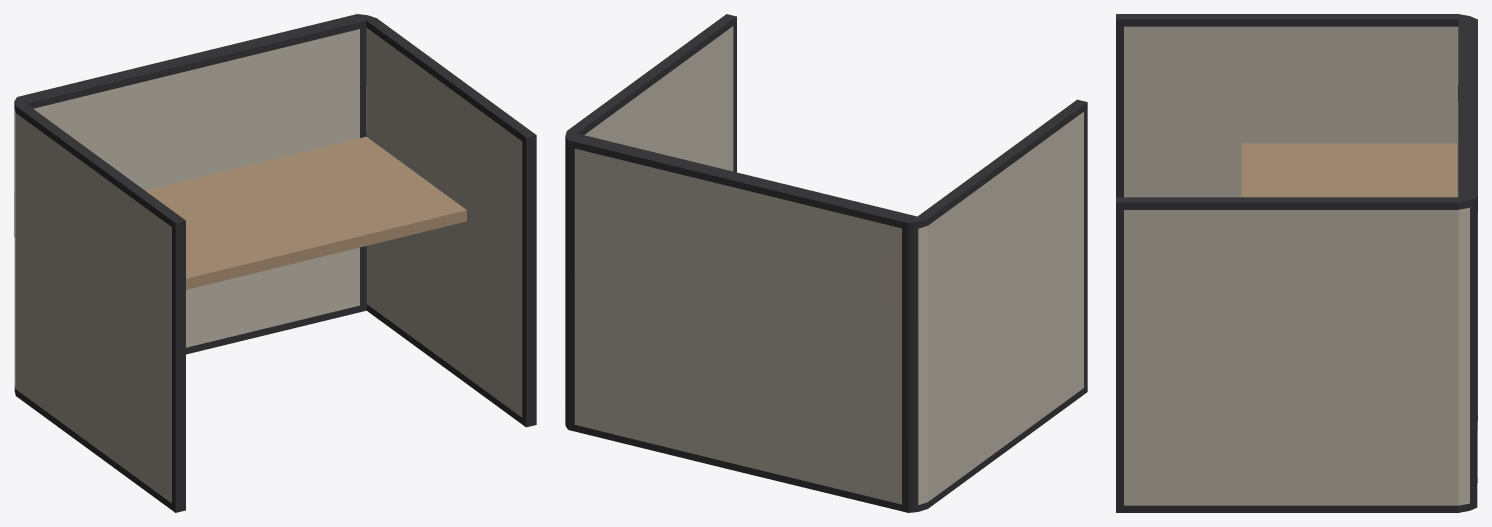
File: 08_divider_full_U_desk_smallfragments.glb
3 renders of one model, left to right at view 1: azimuth 30°, elevation 25°; view 2: azimuth 150°, elevation 25°; view 3: azimuth 270°, elevation 25°, orthographic. The views are drawn at different scales.
Parts seen in each view (by area): view 1: Panel_Back_fragment_2, Panel_Left_fragment_2, Panel_Back_fragment_3, Panel_Right_fragment_2, Panel_Right_fragment_3, Panel_Left_fragment_3, DeskTop_fragment_2, DeskTop_fragment_3, Panel_Left_fragment_1, Panel_Right_fragment_1, Panel_Back_fragment_1, DeskTop_fragment_1; view 2: Panel_Back_fragment_2, Panel_Back_fragment_3, Panel_Back_fragment_1, Panel_Left_fragment_2, Panel_Left_fragment_1, Panel_Left_fragment_3, Panel_Right_fragment_3, Panel_Right_fragment_2, Panel_Right_fragment_1; view 3: Panel_Right_fragment_2, Panel_Right_fragment_3, Panel_Right_fragment_1, Panel_Left_fragment_3, Panel_Left_fragment_2, DeskTop_fragment_1, Panel_Left_fragment_1, Panel_Back_fragment_2, Panel_Back_fragment_3, DeskTop_fragment_2, Panel_Back_fragment_1.
Part boxes in pixels (bbox=[...]): Panel_Back_fragment_2: bbox=[90, 43, 281, 354]; Panel_Left_fragment_2: bbox=[41, 122, 135, 483]; Panel_Back_fragment_3: bbox=[237, 14, 366, 330]; Panel_Right_fragment_2: bbox=[391, 36, 486, 397]; Panel_Right_fragment_3: bbox=[465, 90, 536, 427]; Panel_Left_fragment_3: bbox=[115, 176, 185, 512]; DeskTop_fragment_2: bbox=[145, 160, 353, 282]; DeskTop_fragment_3: bbox=[268, 136, 466, 248]; Panel_Left_fragment_1: bbox=[14, 97, 61, 429]; Panel_Right_fragment_1: bbox=[357, 14, 412, 343]; Panel_Back_fragment_1: bbox=[17, 79, 109, 163]; DeskTop_fragment_1: bbox=[186, 245, 215, 289]; Panel_Back_fragment_2: bbox=[652, 163, 843, 486]; Panel_Back_fragment_3: bbox=[568, 133, 696, 450]; Panel_Back_fragment_1: bbox=[799, 198, 916, 512]; Panel_Left_fragment_2: bbox=[943, 144, 1047, 474]; Panel_Left_fragment_1: bbox=[908, 198, 973, 512]; Panel_Left_fragment_3: bbox=[1017, 99, 1087, 420]; Panel_Right_fragment_3: bbox=[666, 14, 736, 172]; Panel_Right_fragment_2: bbox=[592, 58, 683, 159]; Panel_Right_fragment_1: bbox=[565, 112, 604, 429]; Panel_Right_fragment_2: bbox=[1201, 197, 1404, 512]; Panel_Right_fragment_3: bbox=[1116, 197, 1245, 512]; Panel_Right_fragment_1: bbox=[1359, 197, 1477, 512]; Panel_Left_fragment_3: bbox=[1116, 14, 1245, 197]; Panel_Left_fragment_2: bbox=[1220, 14, 1404, 197]; DeskTop_fragment_1: bbox=[1241, 143, 1456, 196]; Panel_Left_fragment_1: bbox=[1386, 14, 1476, 197]; Panel_Back_fragment_2: bbox=[1458, 57, 1477, 420]; Panel_Back_fragment_3: bbox=[1458, 134, 1477, 482]; DeskTop_fragment_2: bbox=[1241, 189, 1456, 197]; Panel_Back_fragment_1: bbox=[1458, 19, 1477, 196].
Size of the model in its own units: 1.96 by 1.5 by 1.59.
